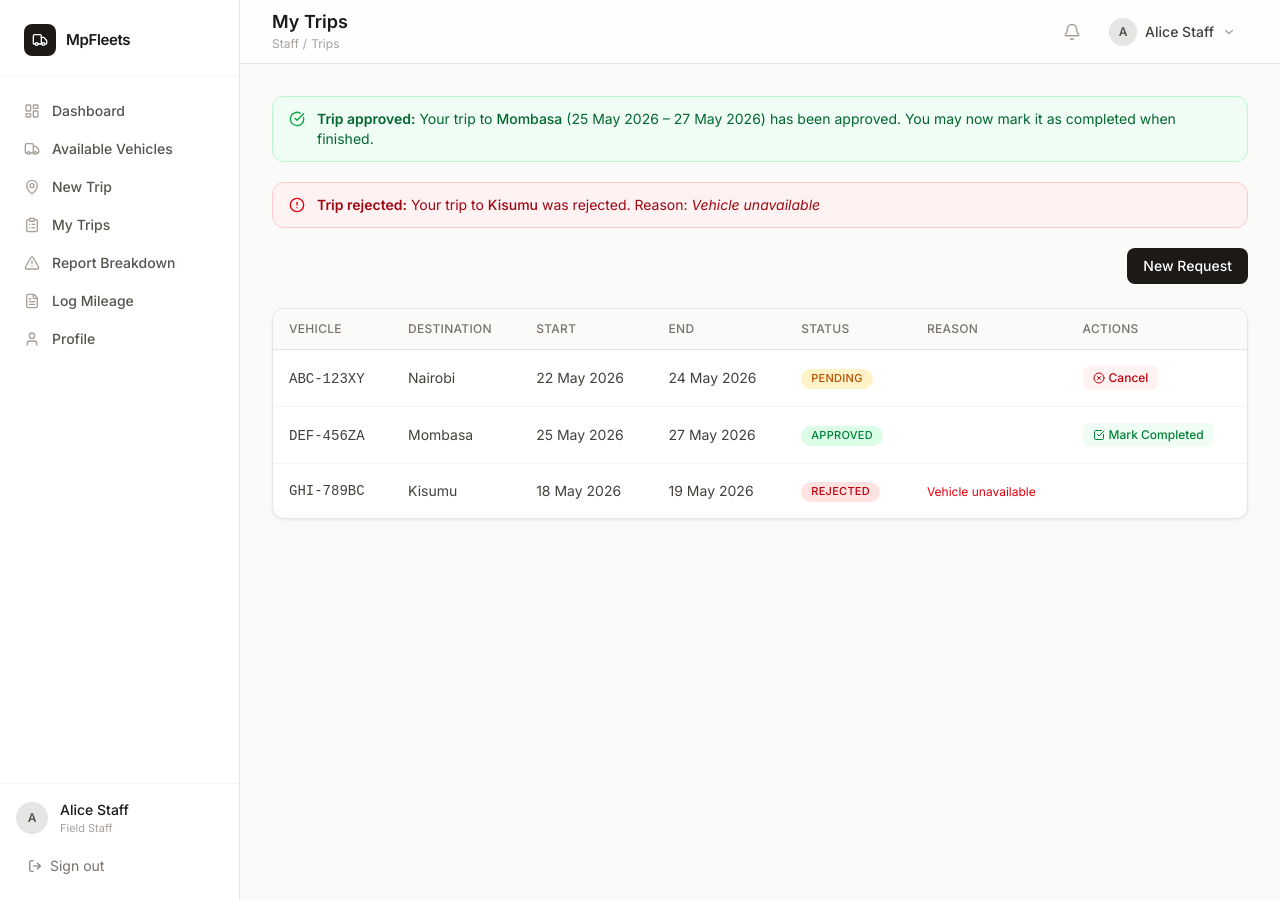
it: MyTripsPage — Cancel Trip flow › opens the confirmation modal when Cancel is clicked
This screenshot has width=1280, height=900.
Click the button "Cancel".
click(1120, 378)  # box x1=1083 y1=366 x2=1158 y2=390
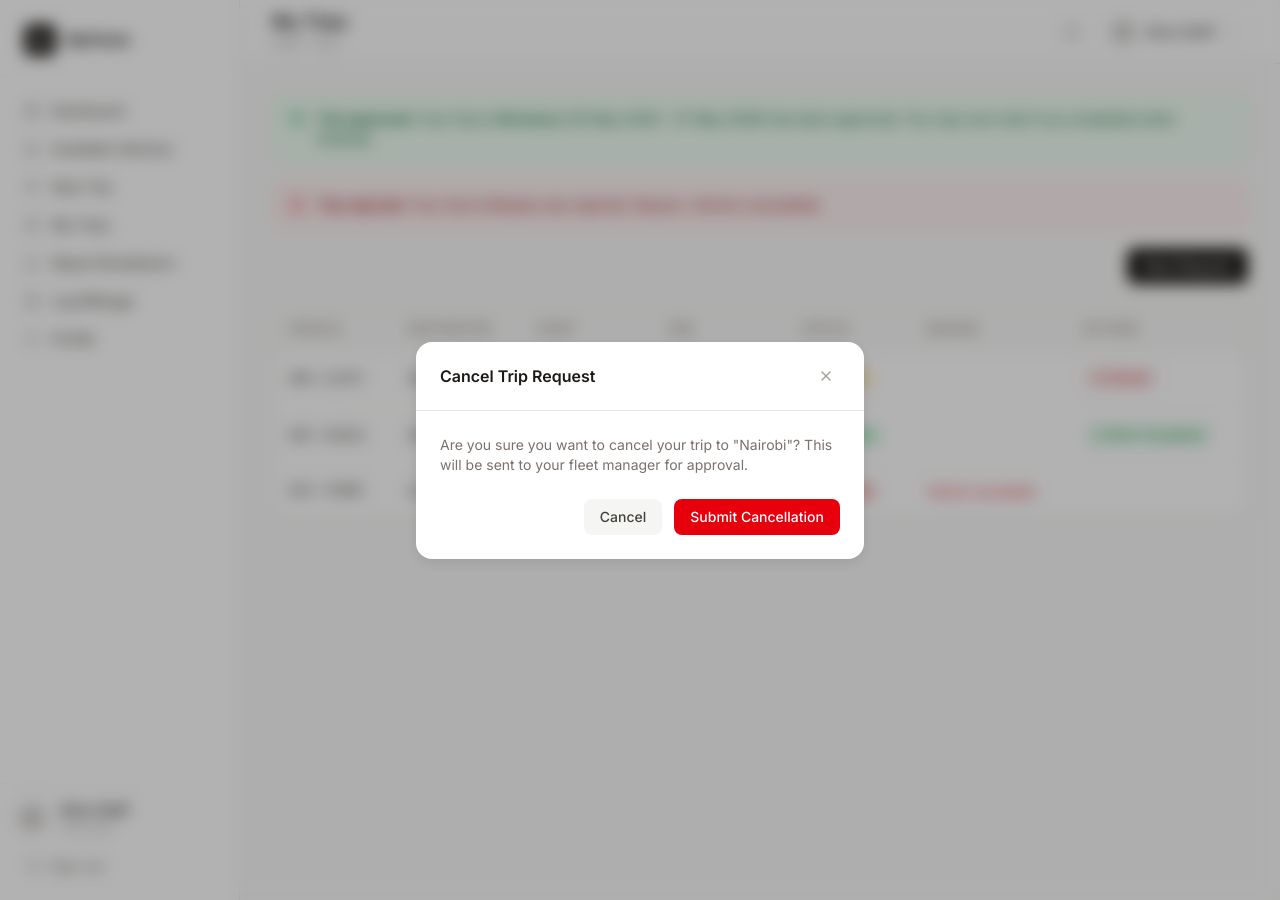
Result: the dialog is shown at x1=416 y1=342 x2=864 y2=558
Result: the text "Nairobi" is shown at x1=440 y1=436 x2=832 y2=472
